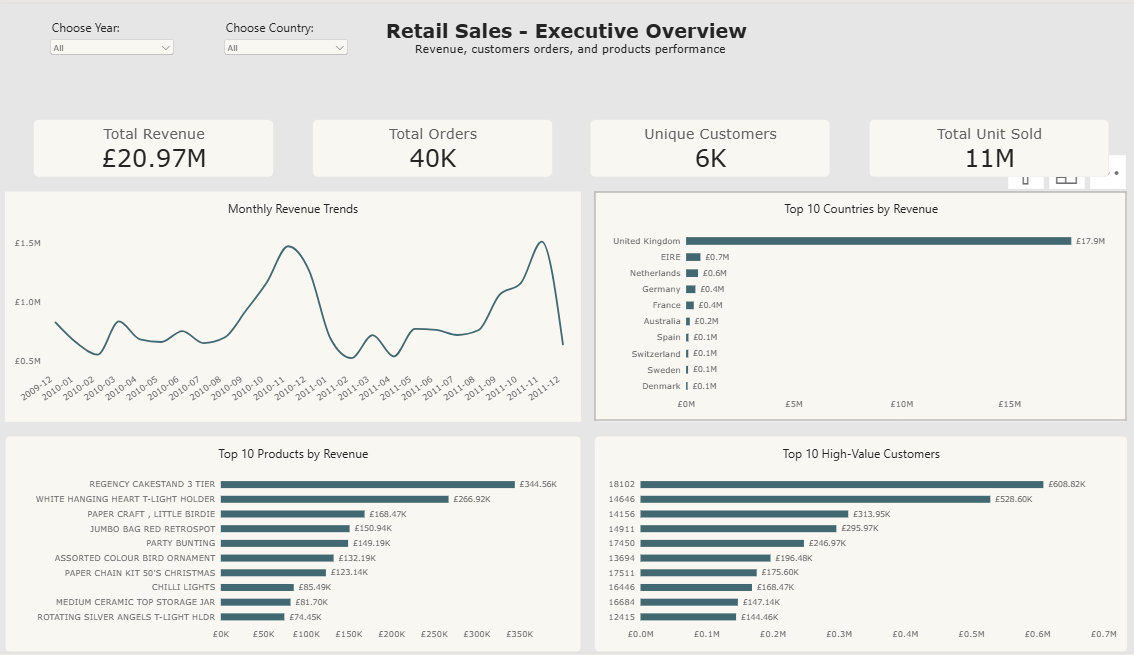

Layout of this report page (visuals, bound fields, positions):
{"tool":"powerbi","page":{"name":"Exucutive ","canvas":[1920,1080],"ordinal":0},"visuals":[{"type":"cardVisual","fields":{"Data":["Measures (2).Total Revenue"]},"box":[72,192,400,96],"z":0,"group":"g1"},{"type":"lineChart","title":"Monthly Revenue Trends","fields":{"Category":["calendar.year-month"],"Y":["Measures (2).Total Revenue"]},"box":[24,312,960,384],"z":0},{"type":"cardVisual","fields":{"Data":["Measures (2).Unit Sold"]},"box":[1464,192,400,96],"z":1000,"group":"g1"},{"type":"barChart","title":"Top 10 Countries by Revenue","fields":{"Category":["retail_transactions.country"],"Y":["Measures (2).Total Revenue"]},"box":[1008,312,888,384],"z":1000},{"type":"cardVisual","fields":{"Data":["Measures (2).Unique Customers"]},"box":[1000,192,400,96],"z":2000,"group":"g1"},{"type":"barChart","title":"Top 10 Products by Revenue","fields":{"Category":["retail_transactions.description"],"Y":["Measures (2).Total Revenue"]},"box":[24,720,960,360],"z":2000},{"type":"textbox","box":[24,24,1872,120],"z":2500},{"type":"cardVisual","fields":{"Data":["Measures (2).Total Orders"]},"box":[536,192,400,96],"z":3000,"group":"g1"},{"type":"barChart","title":"Top 10 High-Value Customers","fields":{"Category":["retail_transactions.customer_id"],"Y":["Measures (2).Total Revenue"]},"box":[1008,720,888,360],"z":3000},{"type":"slicer","fields":{"Values":["calendar.year"]},"box":[96,24,216,96],"z":4000},{"type":"slicer","fields":{"Values":["retail_transactions.country"]},"box":[384,24,216,96],"z":5000},{"type":"textbox","box":[0,528,216,168],"z":6000},{"type":"group","id":"g1","title":"Group 1","box":[72,192,1824,96],"z":9000}]}

Visuals, with their boxes in screenshot pixels (x1, y1, x2, y2), scaled from the page's 1920x1080 canvas onto the 1134x655 screenshot:
cardVisual - Measures (2).Total Revenue: <bbox>43, 116, 279, 175</bbox>
"Monthly Revenue Trends" lineChart: <bbox>14, 189, 581, 422</bbox>
cardVisual - Measures (2).Unit Sold: <bbox>865, 116, 1101, 175</bbox>
"Top 10 Countries by Revenue" barChart: <bbox>595, 189, 1120, 422</bbox>
cardVisual - Measures (2).Unique Customers: <bbox>591, 116, 827, 175</bbox>
"Top 10 Products by Revenue" barChart: <bbox>14, 437, 581, 654</bbox>
textbox: <bbox>14, 15, 1120, 87</bbox>
cardVisual - Measures (2).Total Orders: <bbox>317, 116, 553, 175</bbox>
"Top 10 High-Value Customers" barChart: <bbox>595, 437, 1120, 654</bbox>
slicer - calendar.year: <bbox>57, 15, 184, 73</bbox>
slicer - retail_transactions.country: <bbox>227, 15, 354, 73</bbox>
textbox: <bbox>0, 320, 128, 422</bbox>
"Group 1" group: <bbox>43, 116, 1120, 175</bbox>
